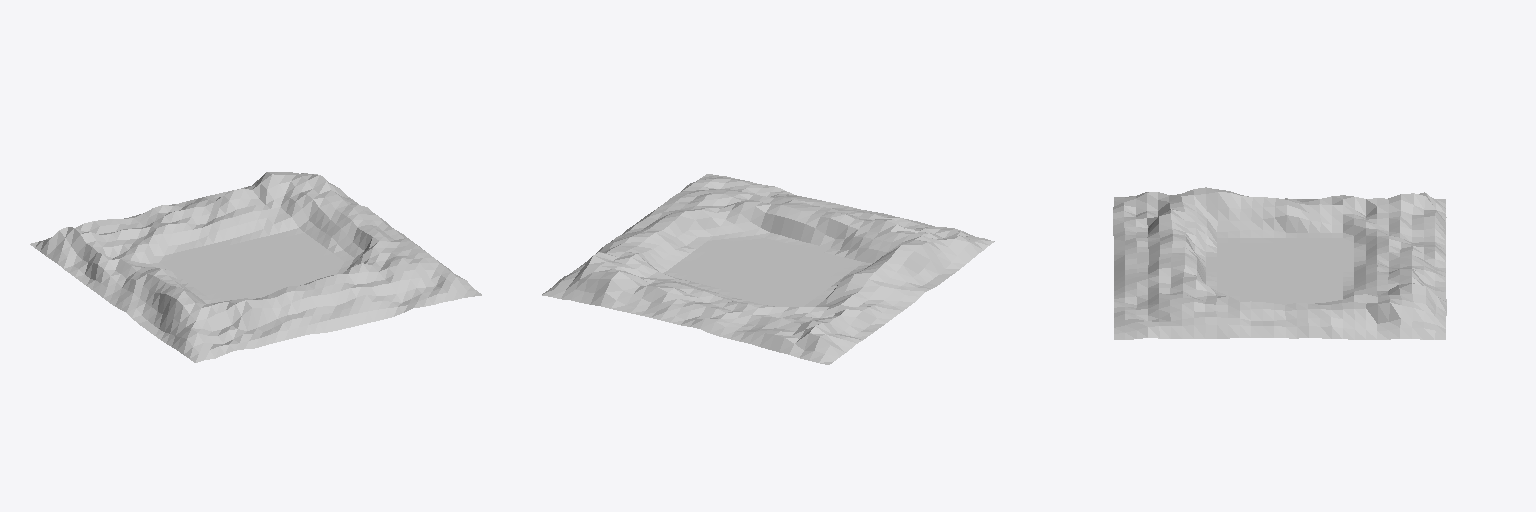
The model's file is world.obj.
The picture shows the model from 3 angles: view 1: azimuth 30°, elevation 25°; view 2: azimuth 150°, elevation 25°; view 3: azimuth 270°, elevation 25°; orthographic projection.
Visible parts, largest first — view 1: Grid; view 2: Grid; view 3: Grid.
Boxes of the visible parts, x1,y1,x2,y2 form: Grid: [30, 172, 481, 362]; Grid: [542, 174, 994, 364]; Grid: [1113, 187, 1446, 339].
Size of the model in its own units: 32.14 by 2.89 by 32.15.